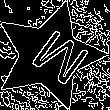M_SW: (14, 21, 85, 90)
